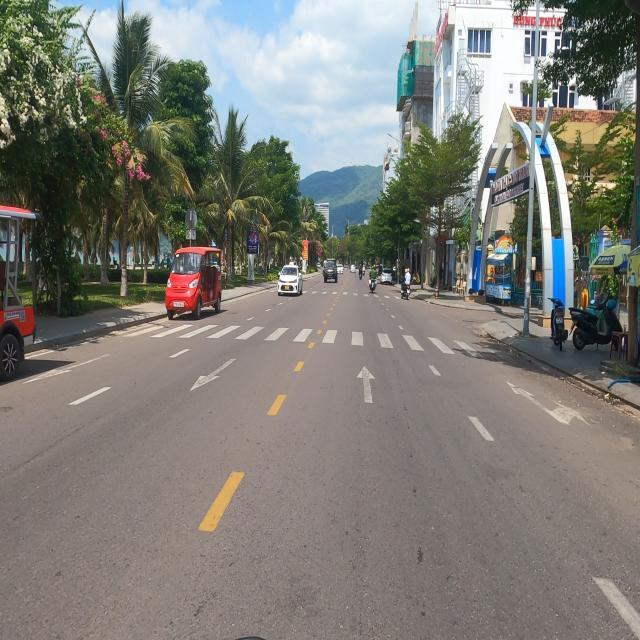walk-crossing: (120, 321, 482, 359)
